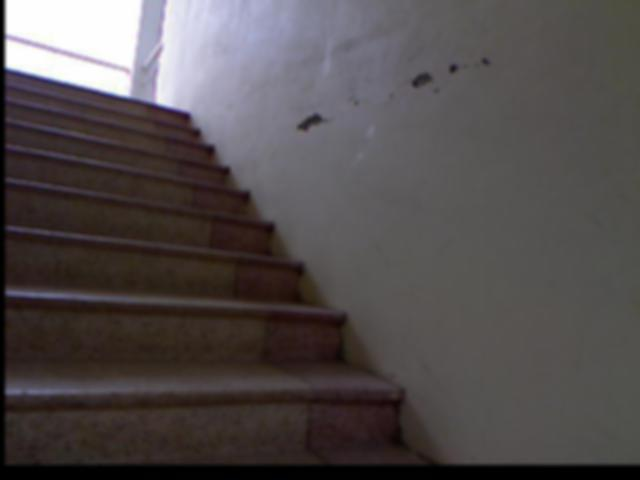Escaleras: (5, 80, 447, 464)
